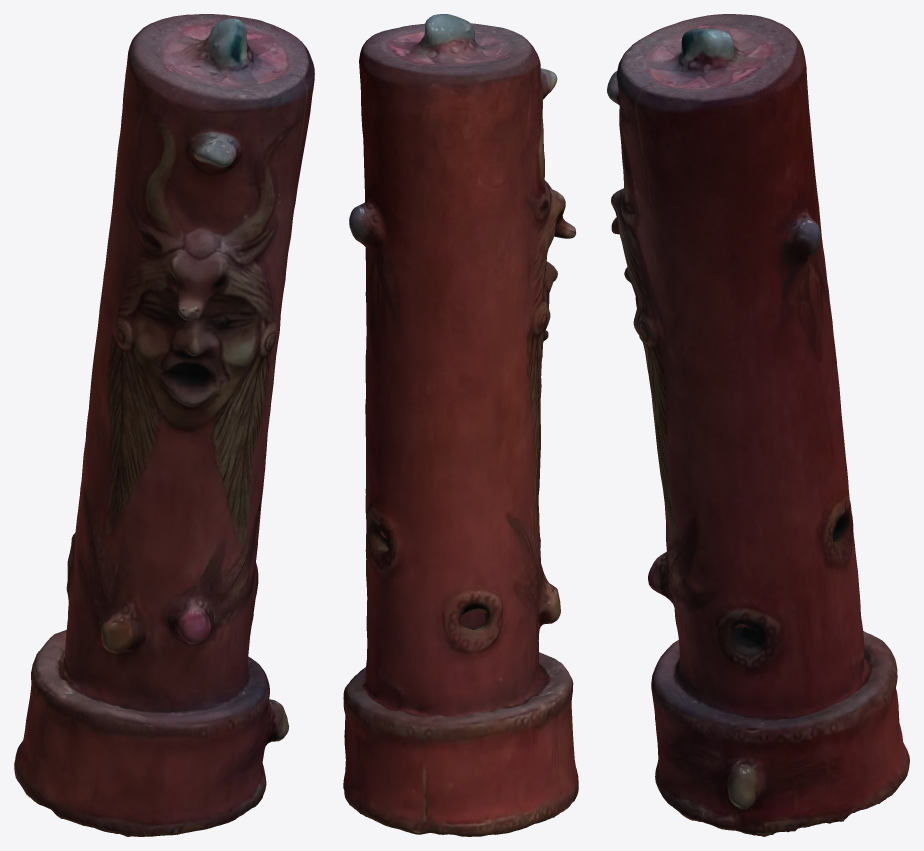
File: quemador_mesh_lowpoly.obj
The picture shows the model from 3 angles, left to right: view 1: azimuth 30°, elevation 25°; view 2: azimuth 150°, elevation 25°; view 3: azimuth 270°, elevation 25°; orthographic projection. The views are drawn at different scales.
Bounding box in the file's own units: 0.5996 × 1.89 × 0.6633.
4 materials, 4 textured.
